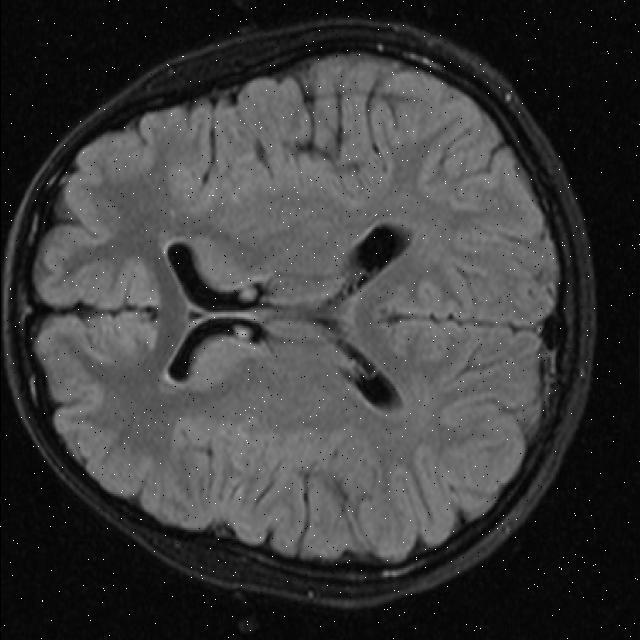No_Tumor: (3, 20, 594, 606)
